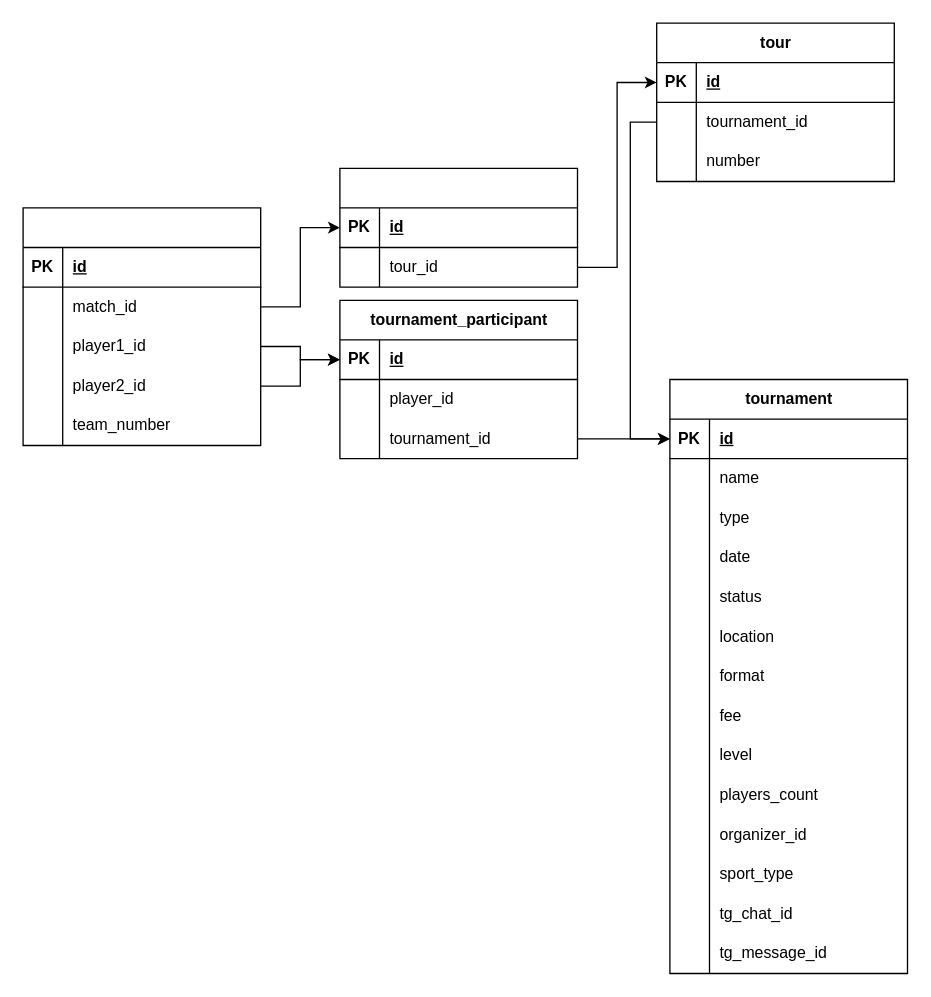
Image size: 931x997. Some labels were removed from this diagram. The shapes that lost their labels are listed below. From the top down, each one's box as (x1, y1, x2, y2) in pixels, then its label:
(339, 167, 578, 287): match
(22, 207, 261, 446): team_composition
